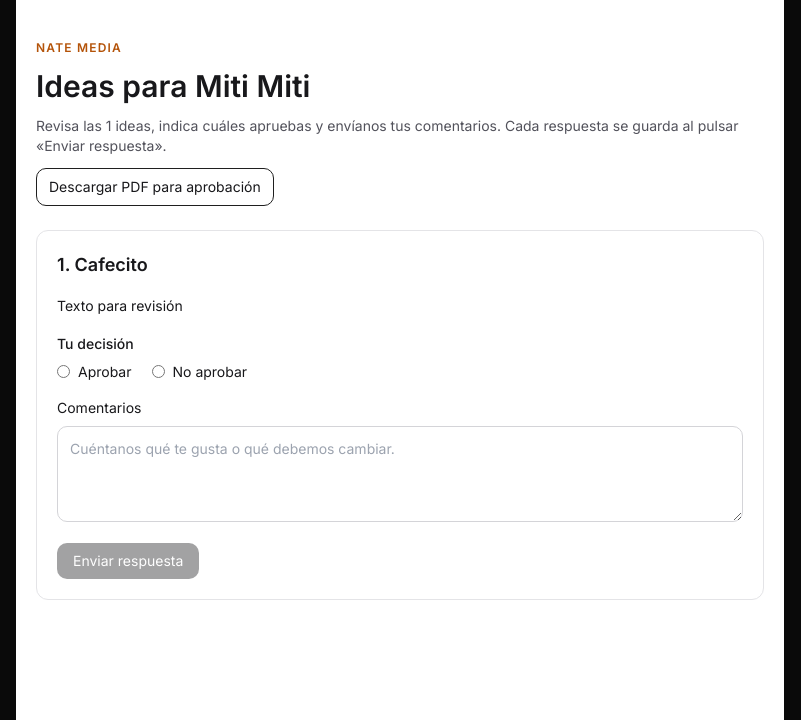
aprobación del cliente › exige una decisión y envía el comentario con la idea correcta
Expected: the button "Enviar respuesta" is disabled, x1=57 y1=543 x2=199 y2=579
Click the radio button labelled "No aprobar".
click(158, 372)  # box x1=152 y1=365 x2=164 y2=378
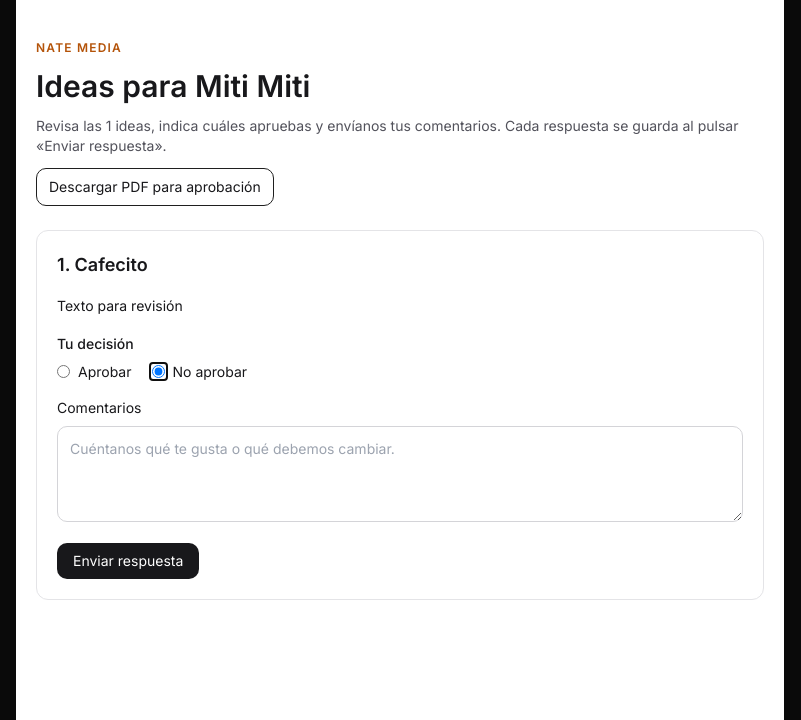
Type "Cambiar el plato" into the text box labelled "Comentarios".
click(400, 474); type("Cambiar el plato")  # box x1=57 y1=426 x2=743 y2=522
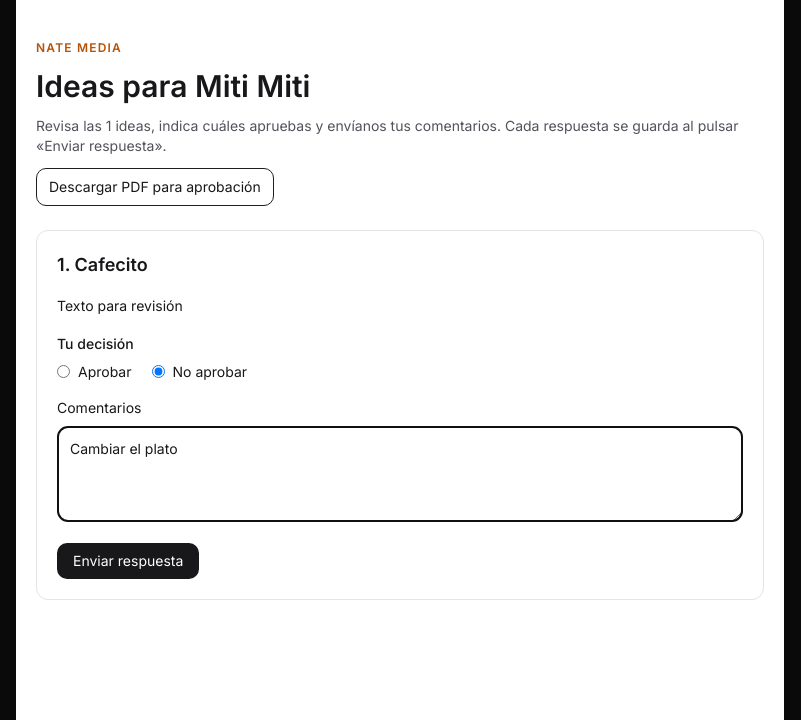
Click the button "Enviar respuesta".
click(128, 561)  # box x1=57 y1=543 x2=199 y2=579
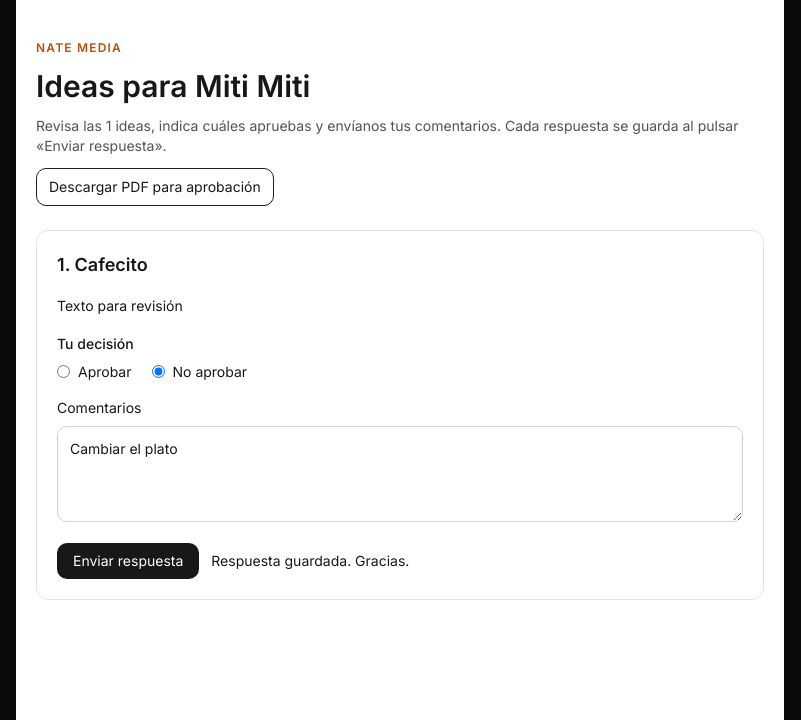
Expected: the text "Respuesta guardada. Gracias." is shown, x1=211 y1=551 x2=409 y2=571
